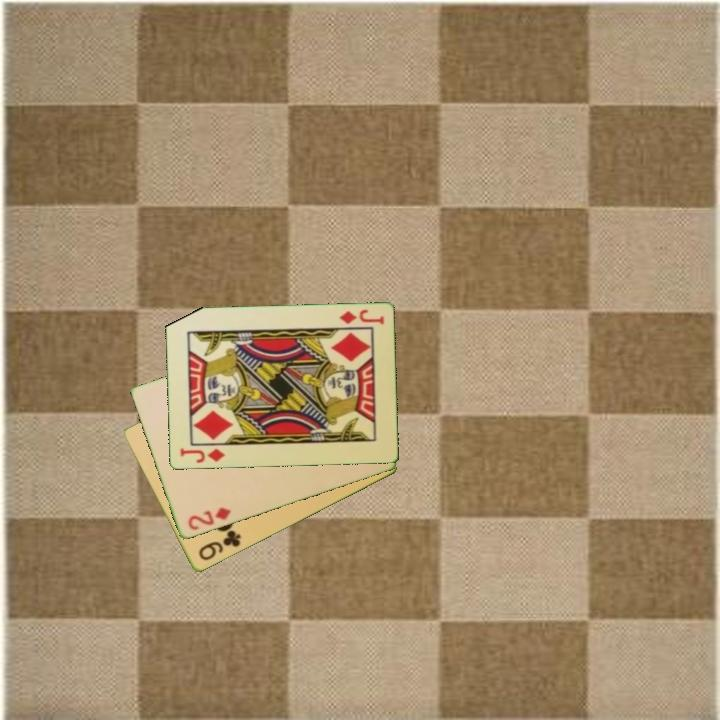2d: (184, 504, 233, 534)
9c: (195, 527, 243, 564)
Jd: (336, 306, 387, 328), (176, 445, 227, 466)
